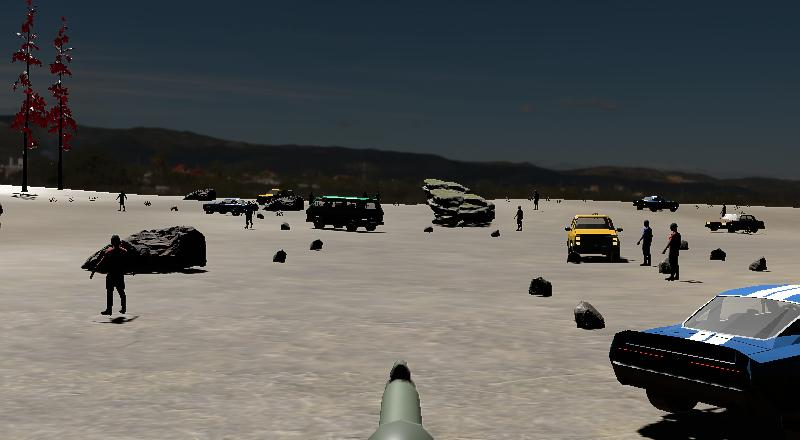Human: (88, 232, 137, 321), (661, 220, 685, 283), (634, 216, 656, 269)
car: (603, 281, 800, 437), (303, 192, 387, 235), (562, 210, 625, 267), (702, 211, 767, 237), (200, 195, 251, 218), (632, 192, 681, 214), (181, 185, 217, 202), (255, 186, 281, 204)
